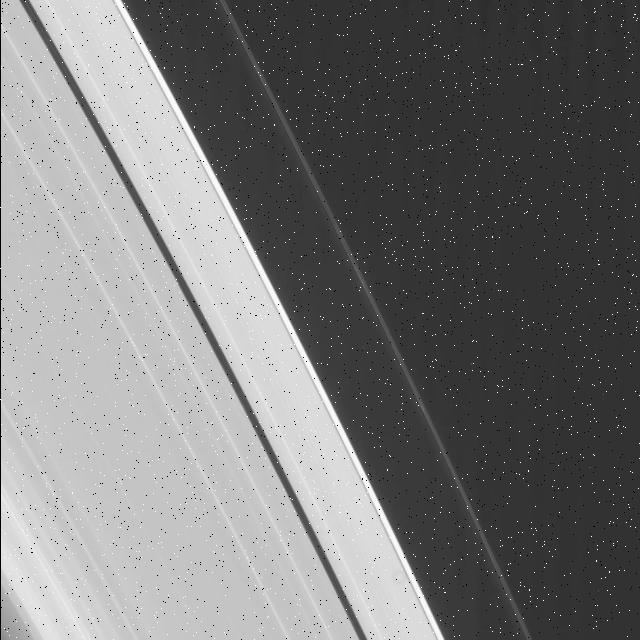Saturn: (0, 0, 548, 640)
